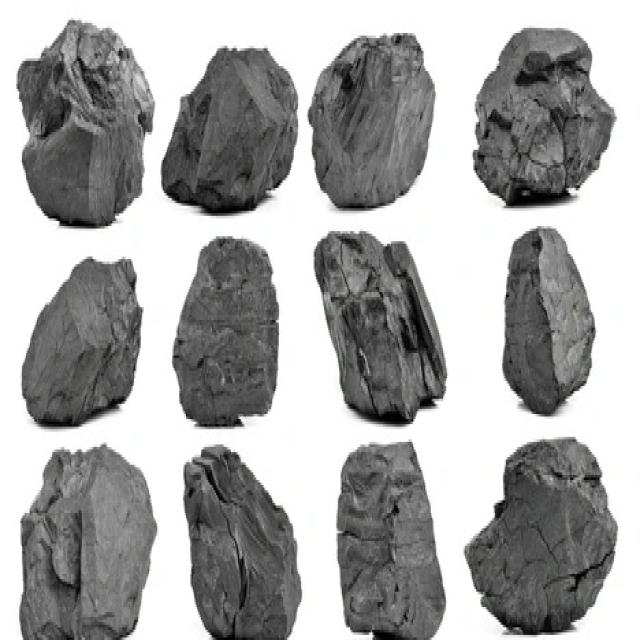Sedimentary: (5, 10, 154, 241), (465, 439, 640, 635), (466, 10, 617, 224), (161, 15, 301, 236), (306, 228, 453, 432), (11, 442, 159, 640), (308, 5, 443, 216), (7, 246, 148, 434), (165, 239, 294, 444), (483, 231, 621, 419), (328, 439, 456, 640), (175, 447, 306, 640)
